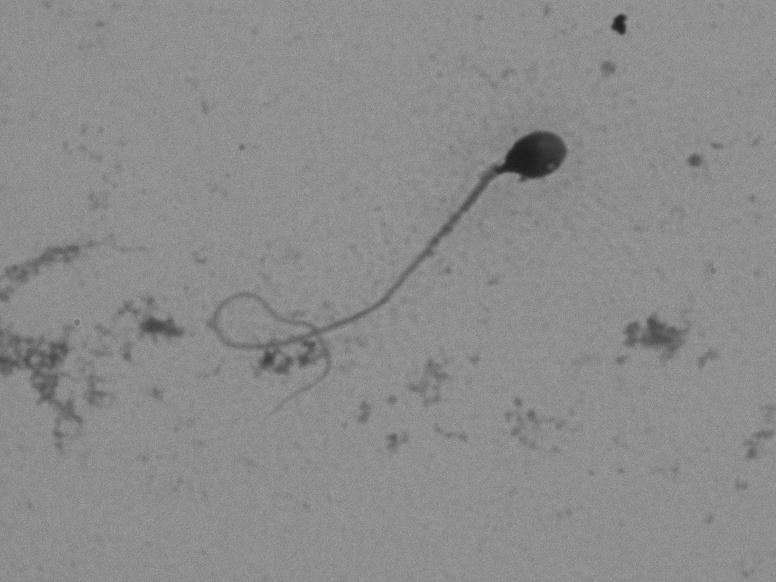Abnormal: (201, 106, 596, 463)
